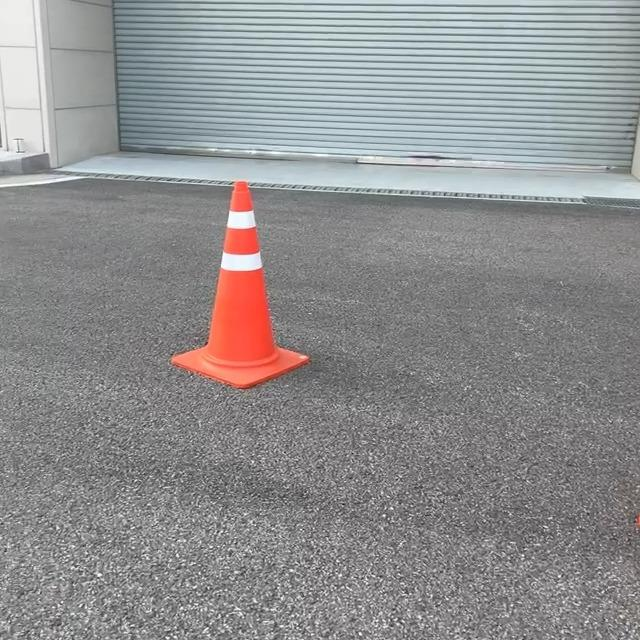fallen_object: (146, 173, 325, 432)
